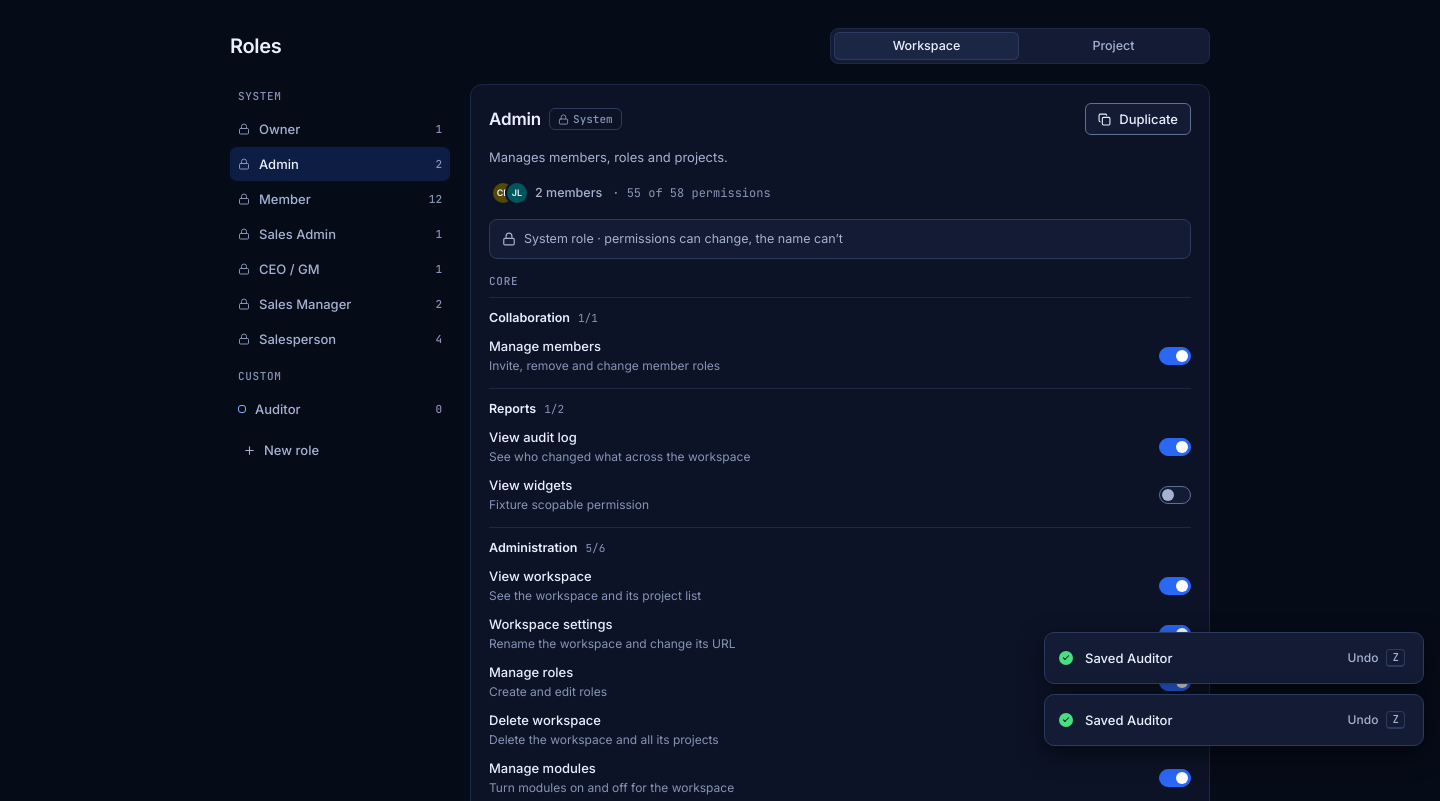
Test case: RolesScreen data scope › won't save a granted scopable permission without a scope
The image size is (1440, 801).
Click the button "Auditor 0" at (340,409), box [230,392,450,426]
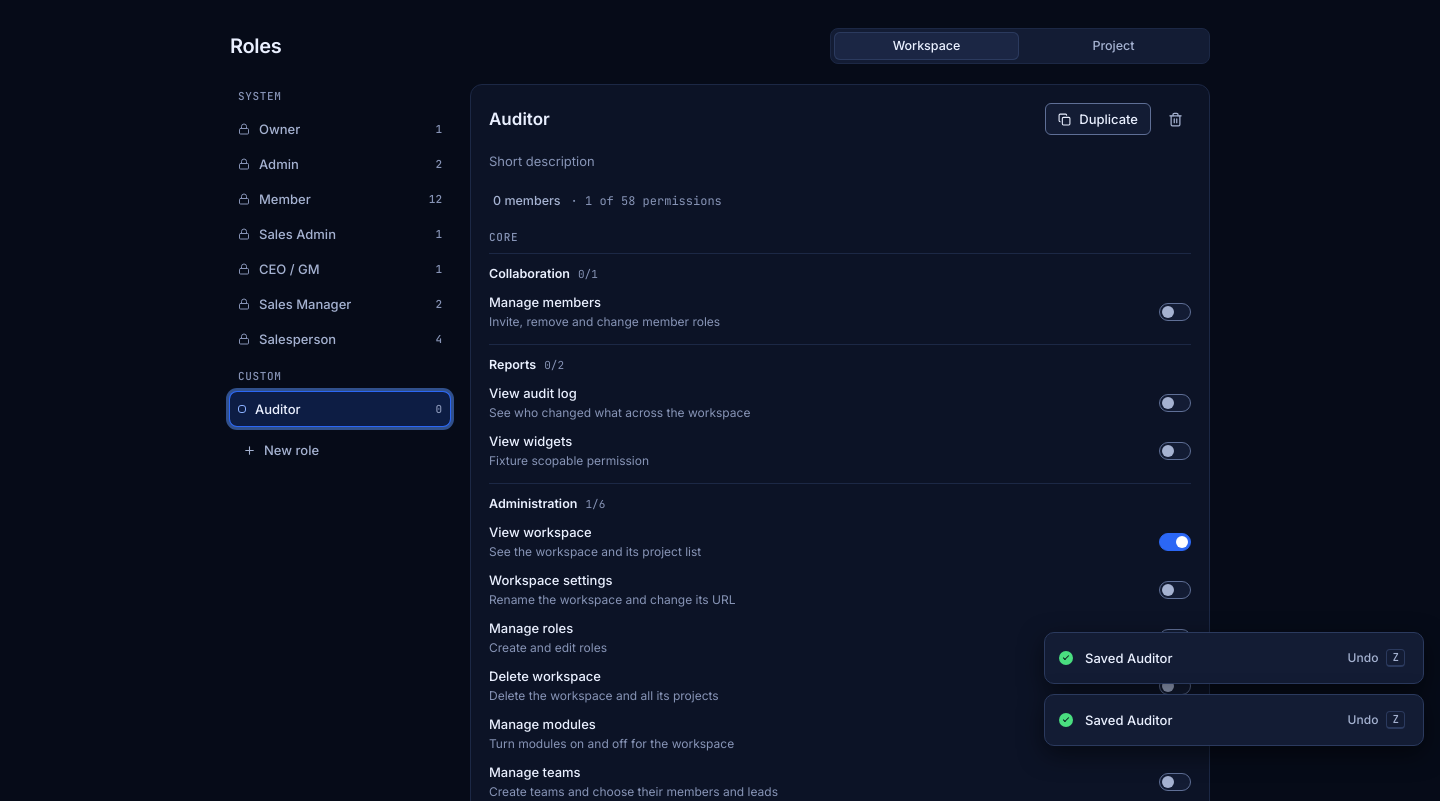
Click the switch labelled "View widgets Fixture scopable permission" at (1175,451), box [1159,442,1191,460]
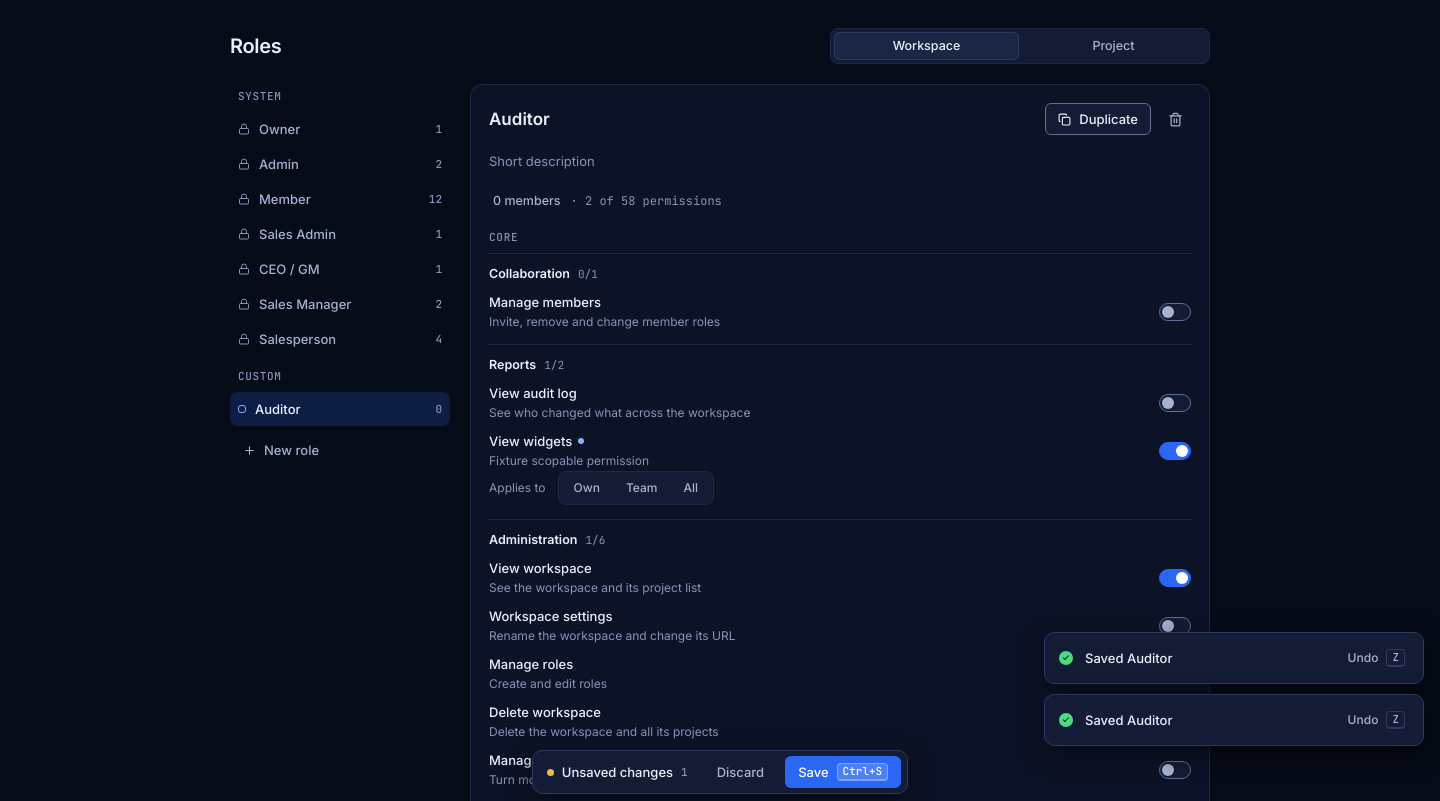
Click the button "Save Ctrl+S" at (843,772), box [785,756,901,788]
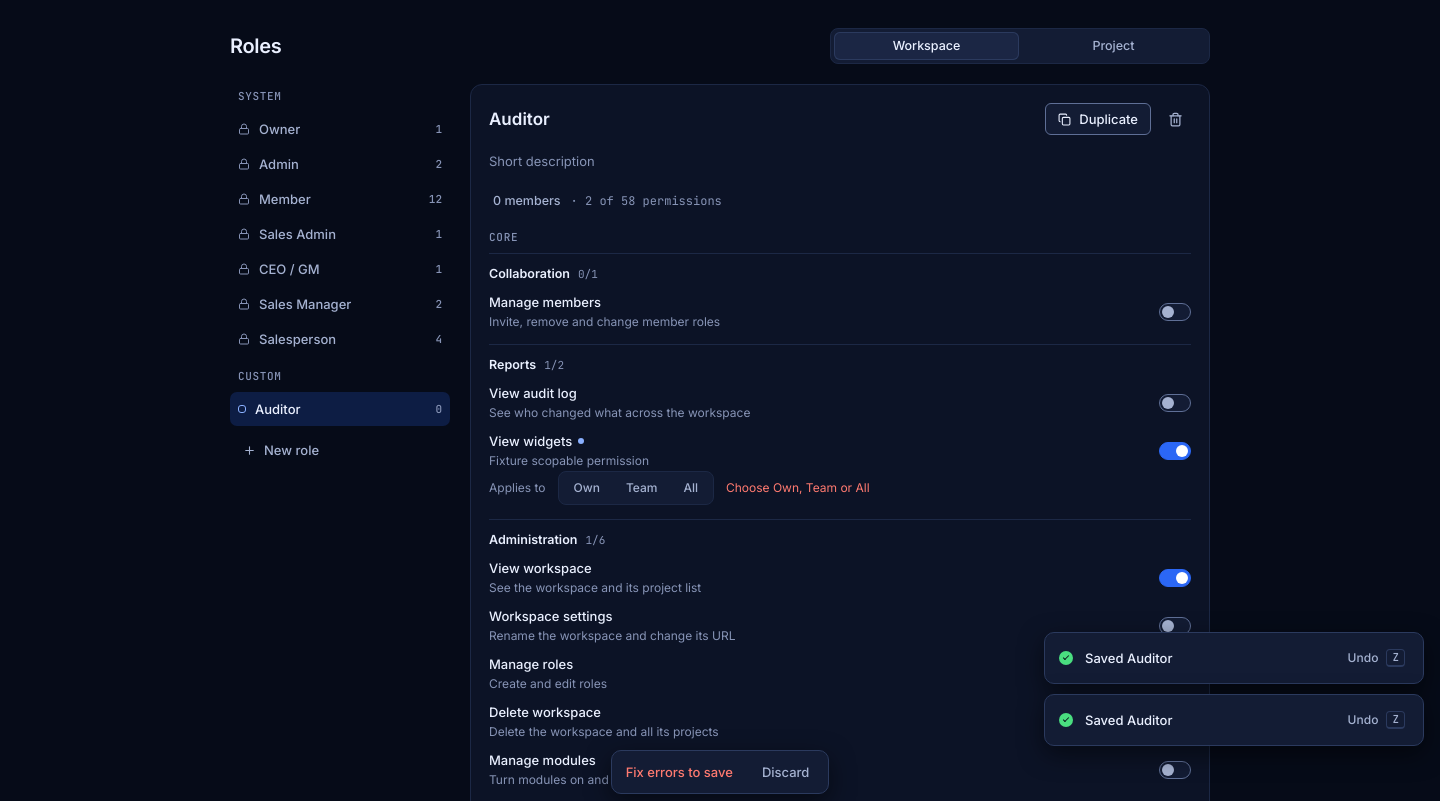
Result: the text "Choose Own, Team or All" is shown at [726,478,870,498]
Click the button "Own" at (587,488), box [562,475,612,501]
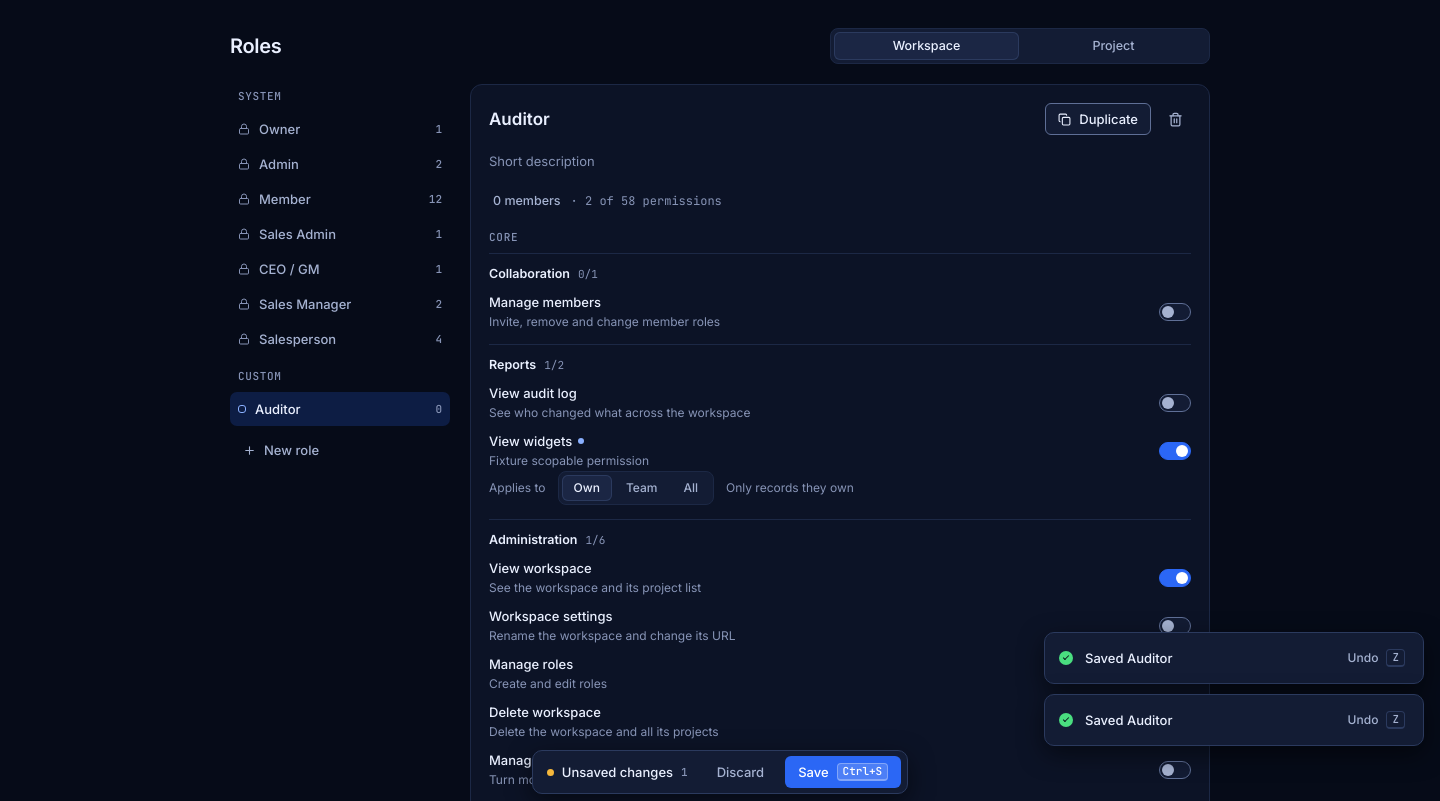
Result: the text "Choose Own, Team or All" is gone
